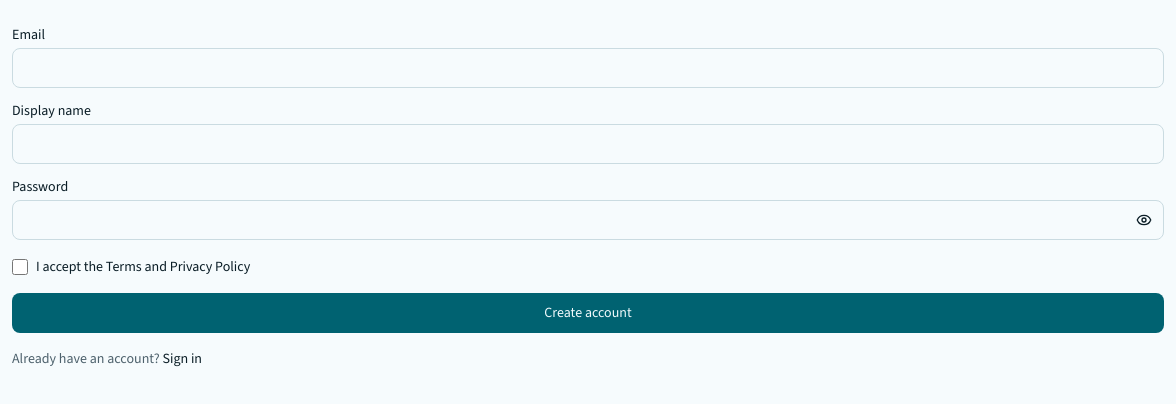
Scenario: register form › tells the learner to verify email after a valid registration
Type "learner@example.com" into the field labelled "Email" at (588, 68), box [12,48,1164,88]
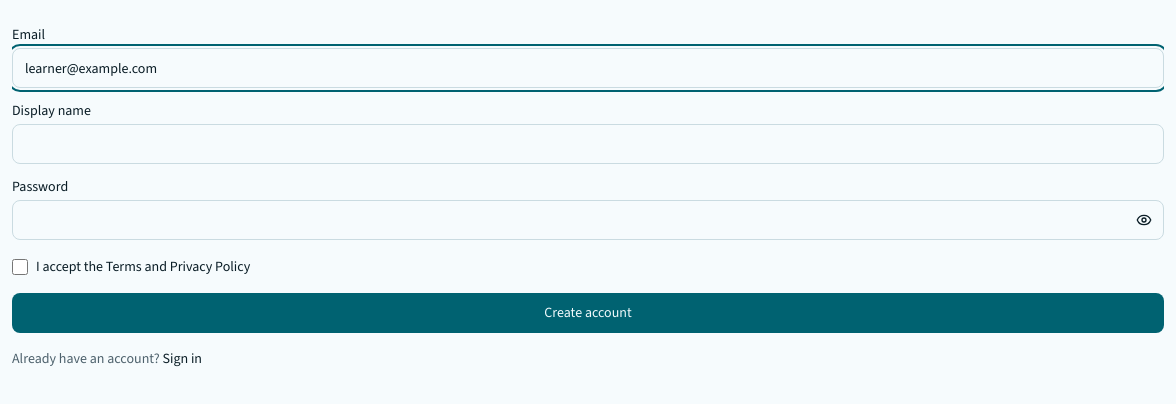
Type "Ada" into the field labelled "Display name" at (588, 144), box [12,124,1164,164]
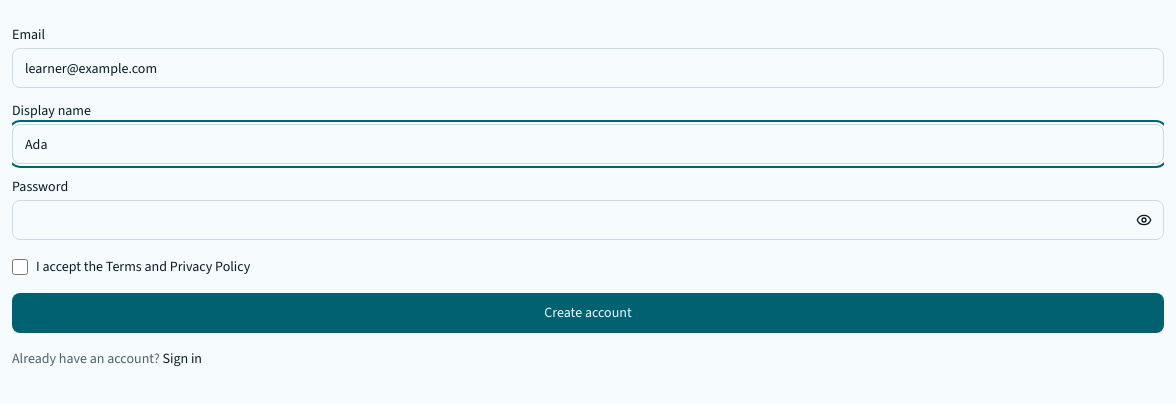
Type "correct-horse-battery" into the password field labelled "Password" at (588, 220), box [12,200,1164,240]
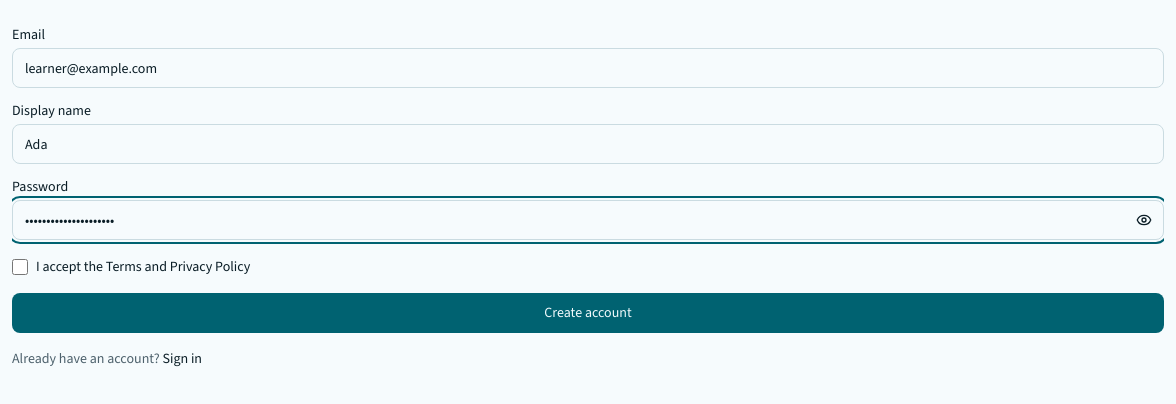
Click the checkbox labelled "I accept the Terms and Privacy Policy" at (20, 266), box [12,258,28,274]
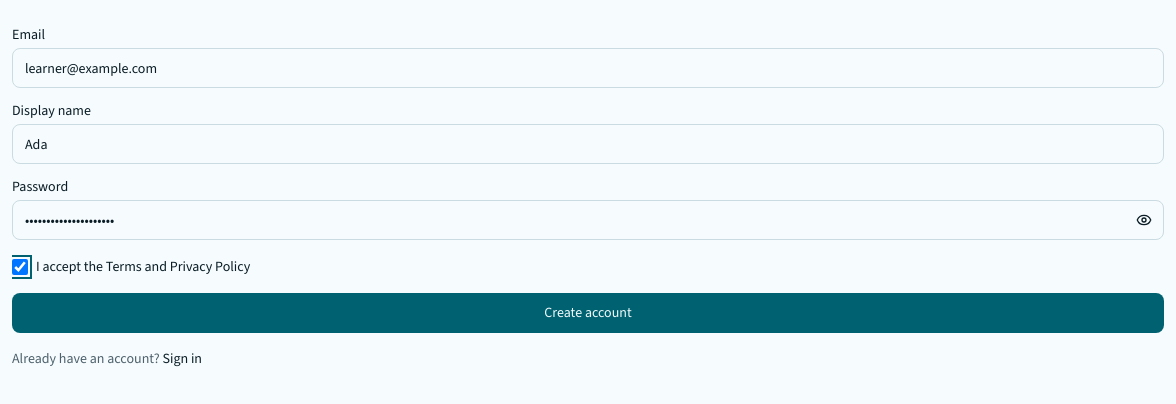
Click the button "Create account" at (588, 313), box [12,293,1164,333]
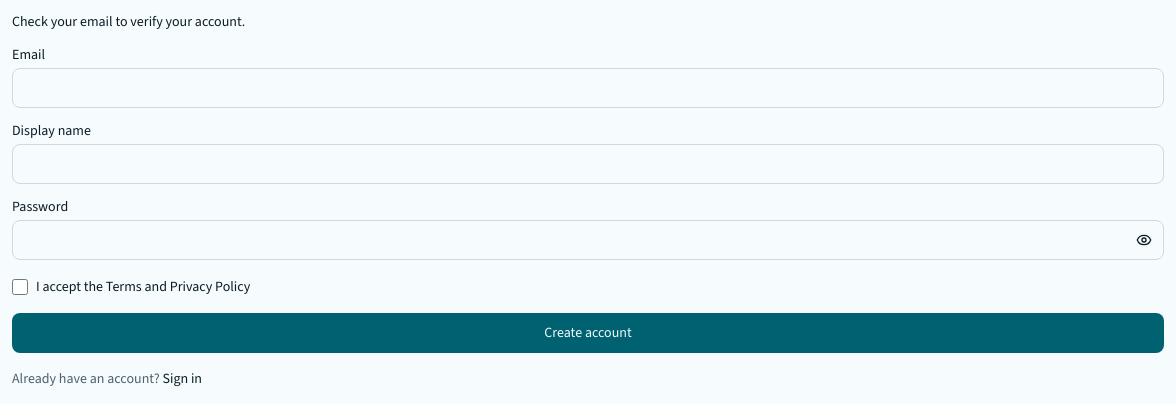
Expected: the text "Check your email to verify your account." is shown, [12,12,245,31]
